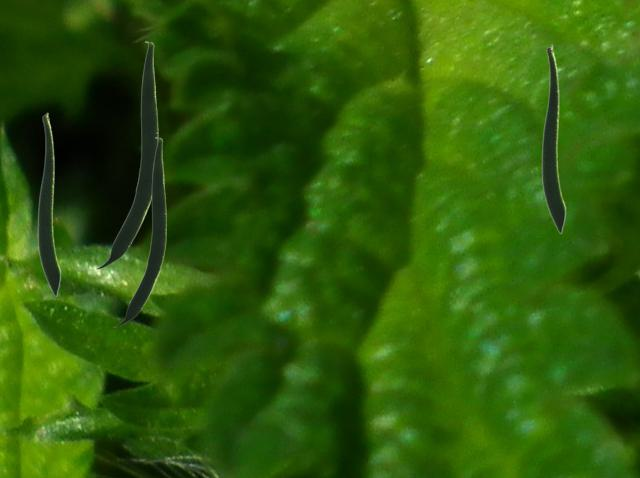french_bean: (95, 41, 157, 268), (113, 137, 165, 326), (541, 44, 565, 233), (37, 112, 60, 296)
